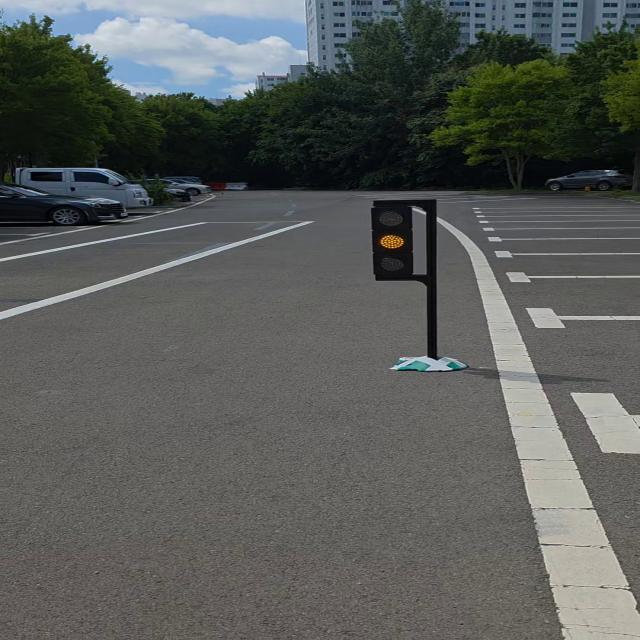yellow: (364, 199, 419, 281)
